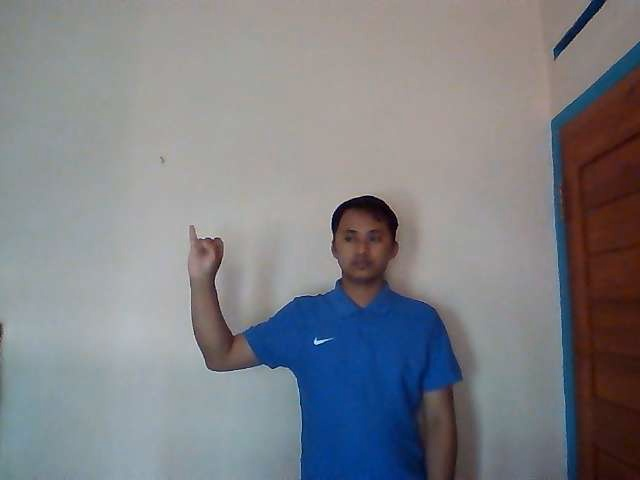I: (185, 222, 226, 281)
